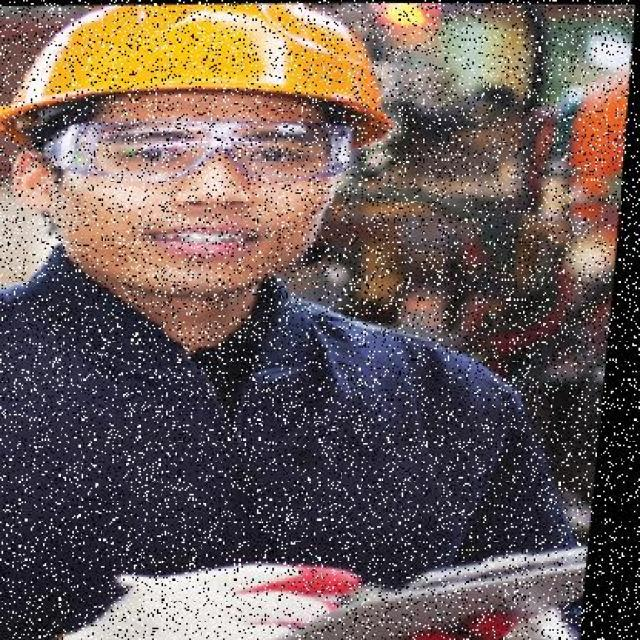helmet: (0, 2, 437, 150)
vest: (0, 232, 548, 614)
